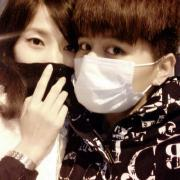NONE: (13, 28, 83, 98)
OK: (75, 39, 144, 113)
